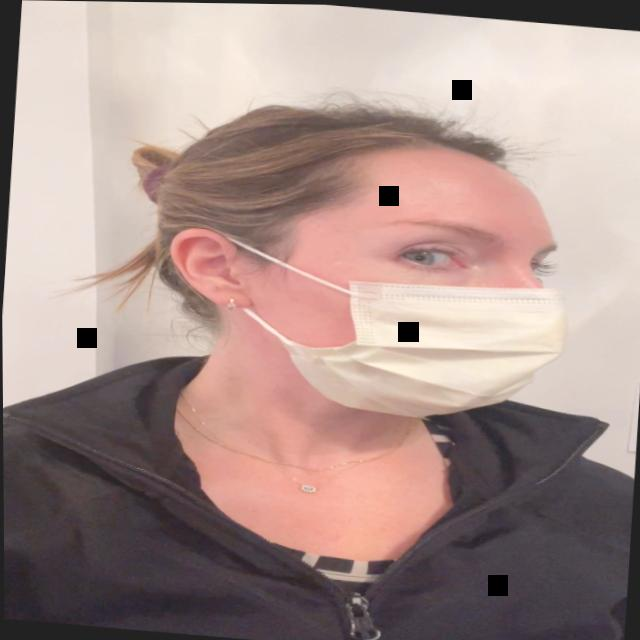Mask: (113, 99, 607, 457)
